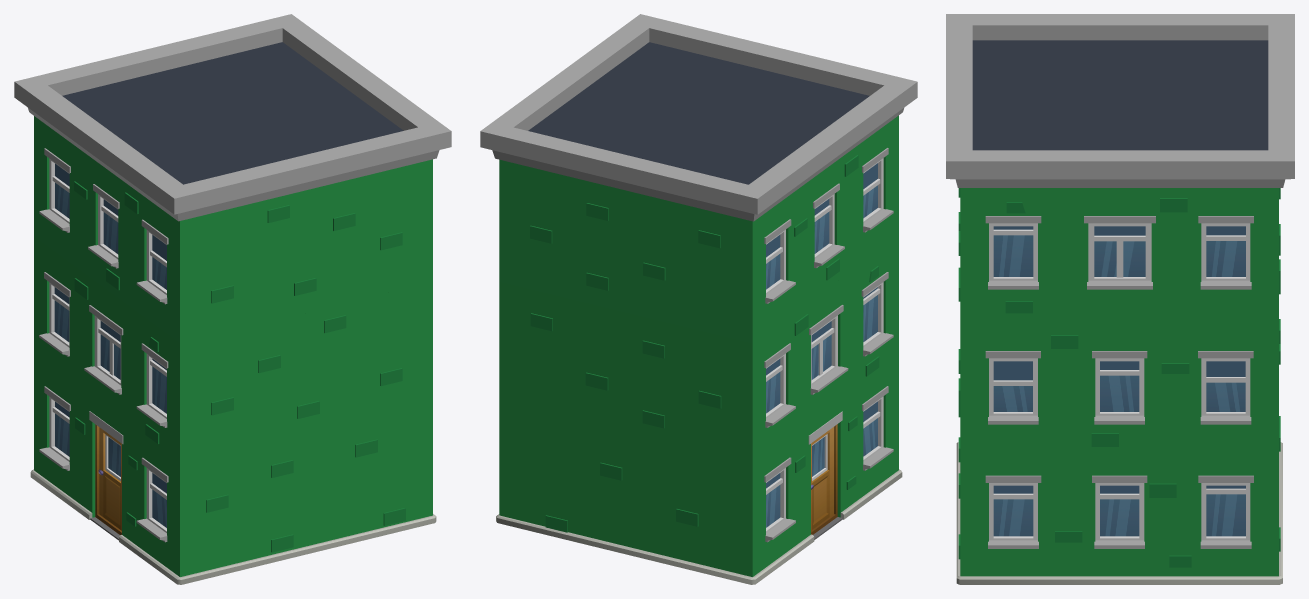
The model's file is Building_2_6_F.fbx.
3 views of the same model, side by side, from view 1: azimuth 30°, elevation 25°; view 2: azimuth 150°, elevation 25°; view 3: azimuth 270°, elevation 25° (orthographic). The views are drawn at different scales.
Parts seen in each view (by area): view 1: Building_2_6_F; view 2: Building_2_6_F; view 3: Building_2_6_F.
Boxes of the visible parts, x1,y1,x2,y2 form: Building_2_6_F: (14, 14, 451, 584); Building_2_6_F: (480, 14, 917, 584); Building_2_6_F: (946, 14, 1294, 584).
Size of the model in its own units: 620 by 840 by 620.
